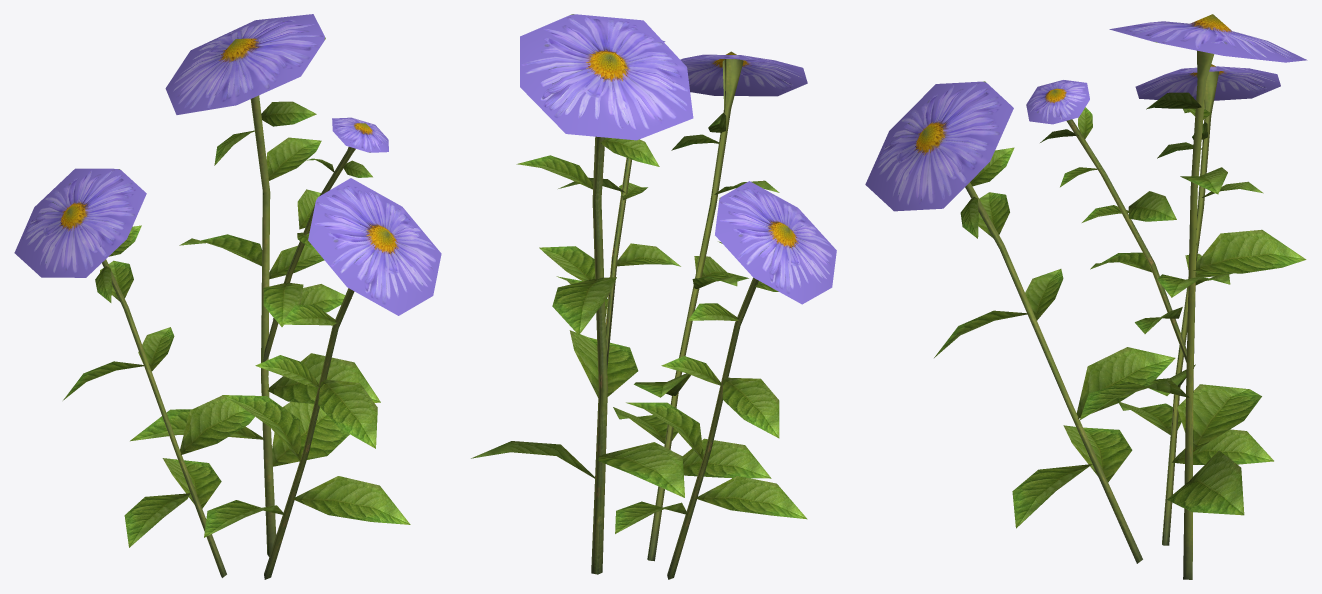
The model's file is Aster Frikartii Monch.FBX.
3 views of the same model, side by side, from view 1: azimuth 30°, elevation 25°; view 2: azimuth 150°, elevation 25°; view 3: azimuth 270°, elevation 25° (orthographic). The views are drawn at different scales.
Parts seen in each view (by area): view 1: Aster Frikartii Monch, Aster Frikartii Monch04, Aster Frikartii Monch3; view 2: Aster Frikartii Monch, Aster Frikartii Monch3, Aster Frikartii Monch04; view 3: Aster Frikartii Monch, Aster Frikartii Monch04, Aster Frikartii Monch3.
Part boxes in pixels (left/top/right/bottom): Aster Frikartii Monch: left=130, top=14, right=388, bottom=556; Aster Frikartii Monch04: left=204, top=178, right=441, bottom=579; Aster Frikartii Monch3: left=14, top=168, right=254, bottom=577; Aster Frikartii Monch: left=471, top=14, right=693, bottom=574; Aster Frikartii Monch3: left=615, top=181, right=836, bottom=579; Aster Frikartii Monch04: left=613, top=51, right=807, bottom=561; Aster Frikartii Monch: left=1026, top=14, right=1307, bottom=579; Aster Frikartii Monch04: left=865, top=81, right=1175, bottom=563; Aster Frikartii Monch3: left=1119, top=64, right=1280, bottom=545.
Size of the model in its own units: 52.84 by 80.55 by 58.09.
